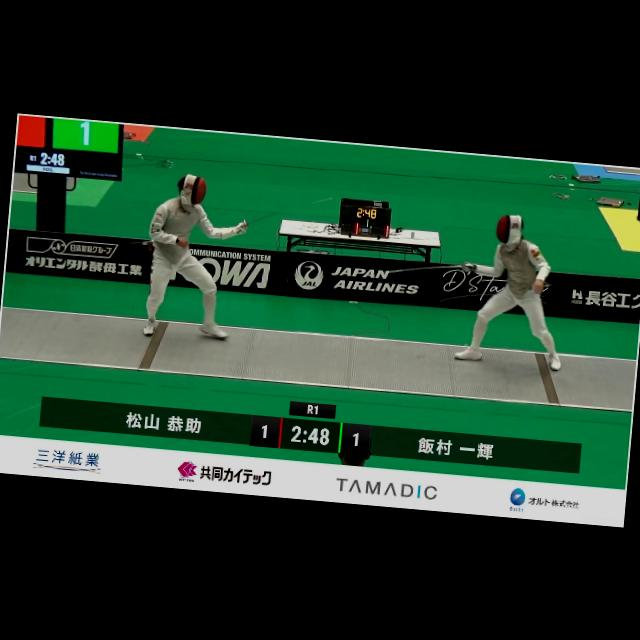blade: (232, 185, 342, 240), (379, 252, 478, 288)
